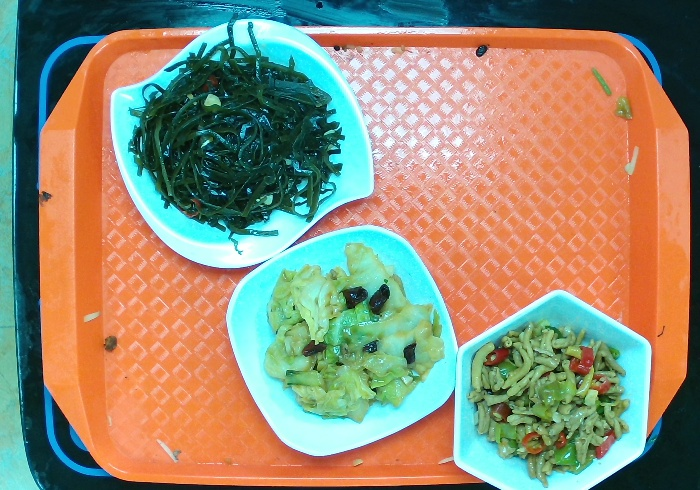RJxy-Liu_Jiao_Wan: (452, 290, 653, 490)
RJxy-Shuang_Jiao_Pan: (111, 15, 373, 270)
RJxy-Si_Fang_Wan: (223, 227, 459, 455)
